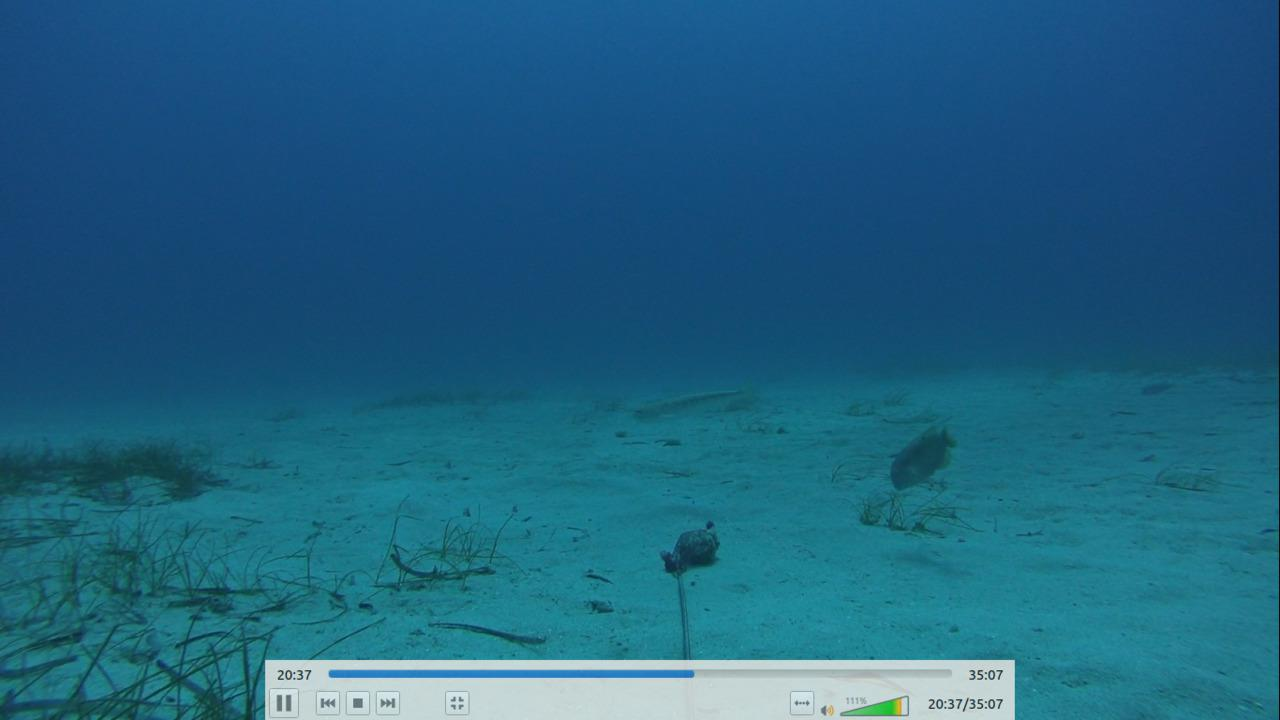raor: (886, 421, 958, 494)
